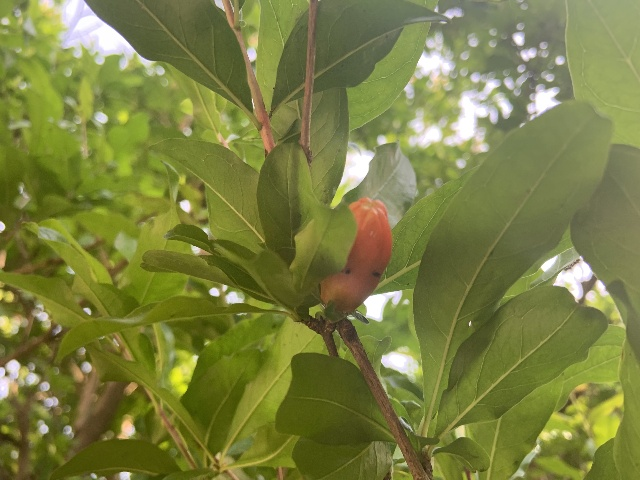bud: (319, 196, 392, 315)
